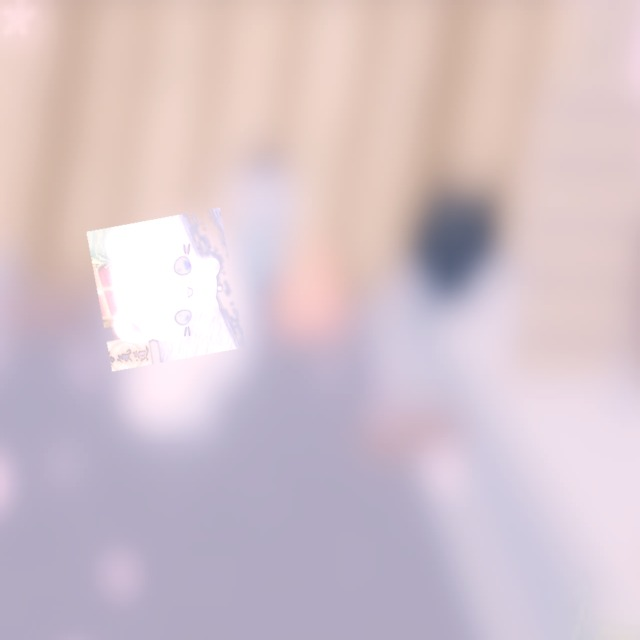urso_branco: (86, 207, 246, 372)
